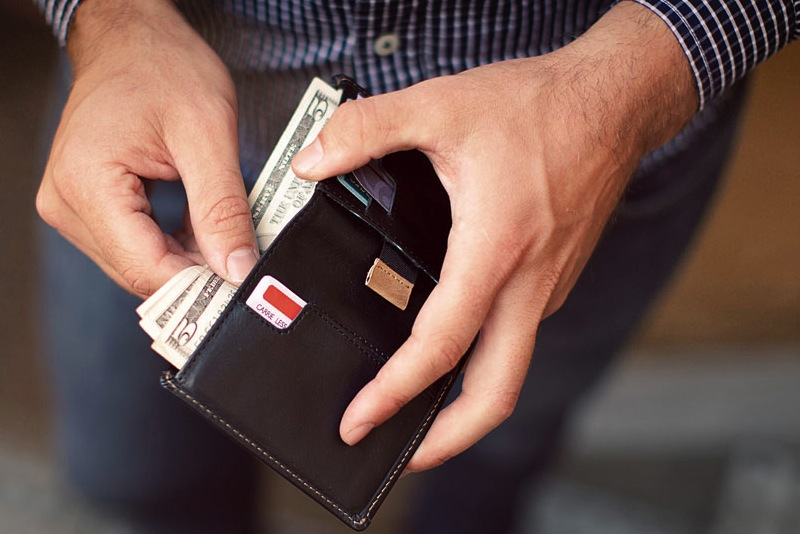monedero: (156, 73, 483, 534)
